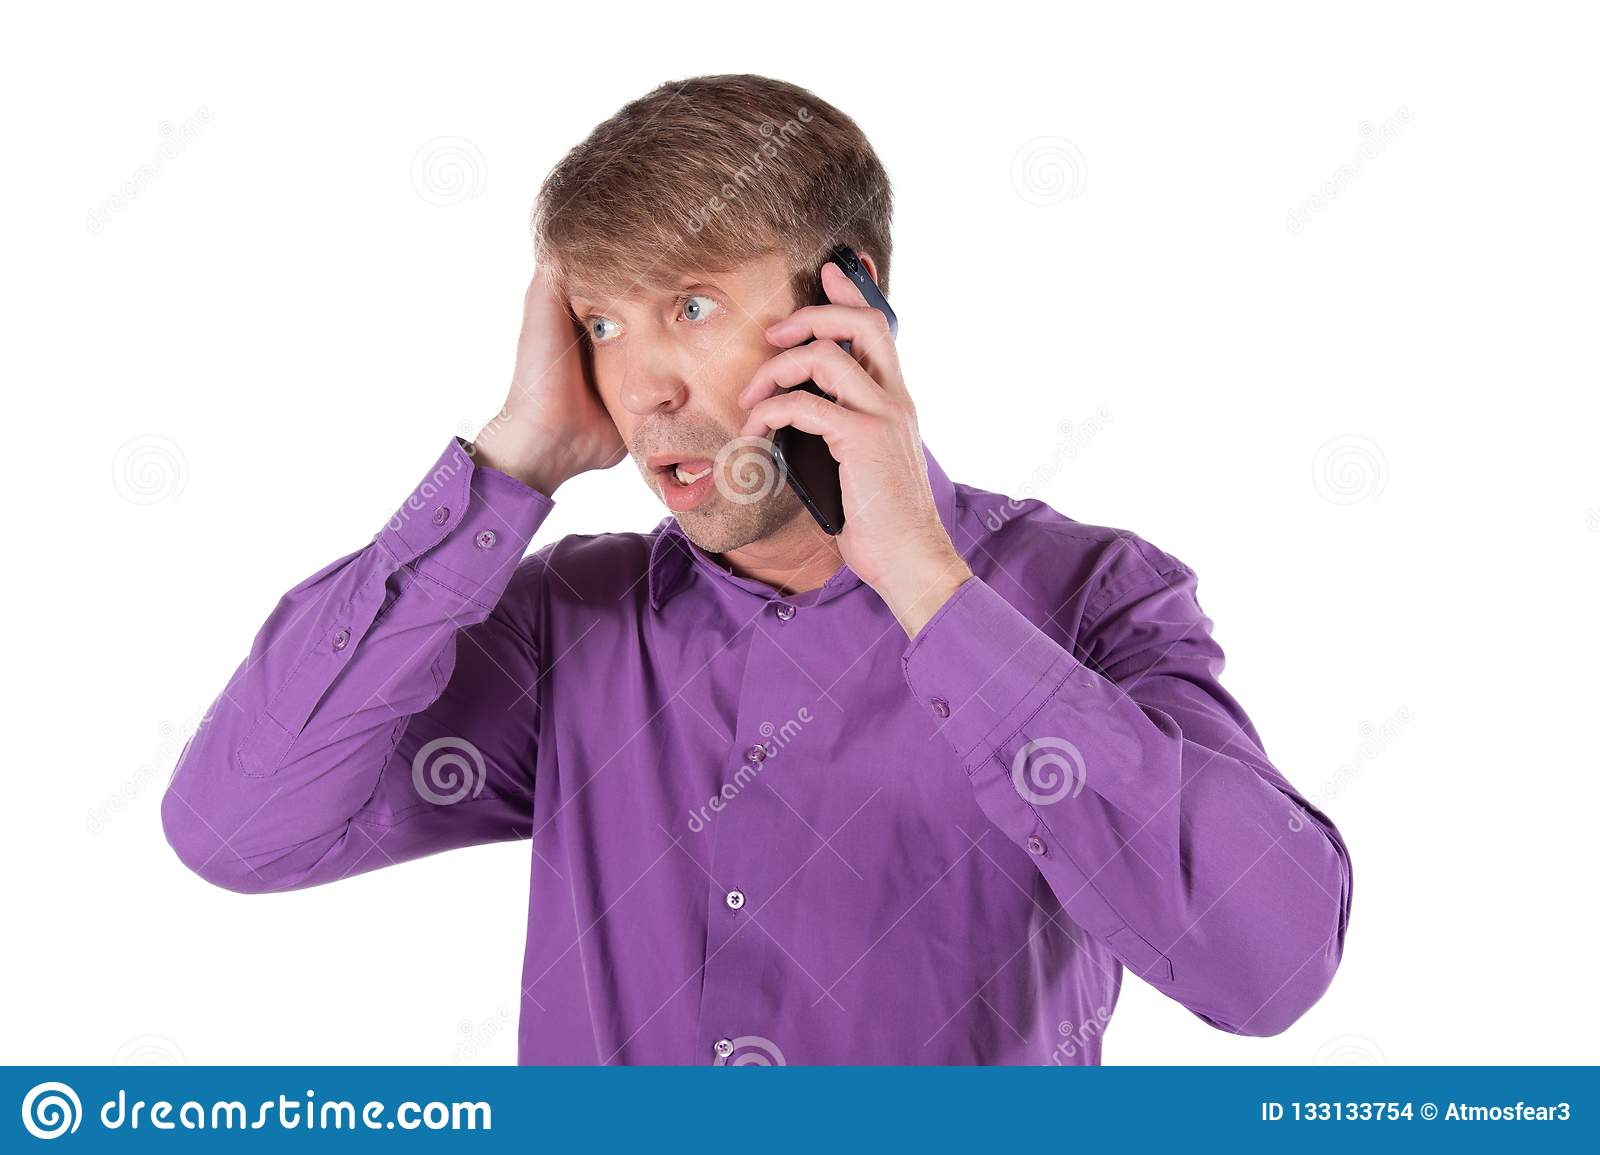phone: (780, 252, 901, 546)
talk: (575, 248, 911, 571)
